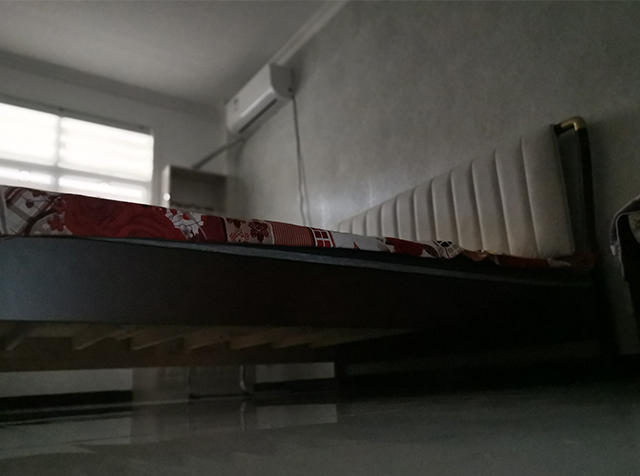bed: (1, 117, 623, 382)
